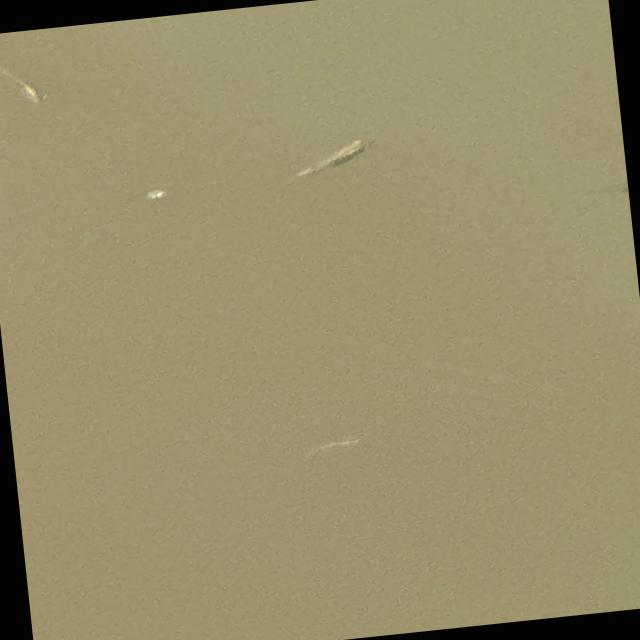Sivrisinek Baligi: (283, 130, 371, 185), (0, 52, 52, 105), (299, 424, 370, 461)
